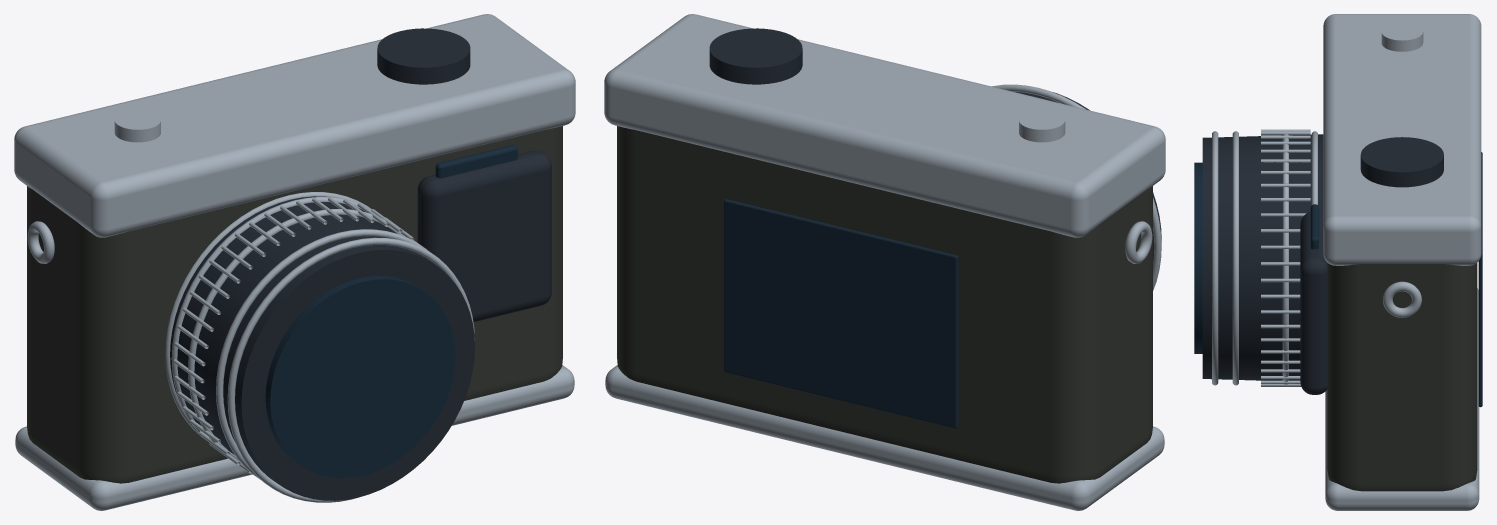
Rendered from atelier_camera.glb.
3 views of the same model, side by side, from view 1: azimuth 30°, elevation 25°; view 2: azimuth 150°, elevation 25°; view 3: azimuth 270°, elevation 25° (orthographic). The views are drawn at different scales.
Parts seen in each view (by area): view 1: camera:Atelier_BrushedSteel, camera:CameraV5_PebbleLeather, camera:Atelier_AnodizedMetal, camera:Atelier_OpticalGlass; view 2: camera:CameraV5_PebbleLeather, camera:Atelier_BrushedSteel, camera:Atelier_OpticalGlass, camera:Atelier_AnodizedMetal; view 3: camera:Atelier_BrushedSteel, camera:CameraV5_PebbleLeather, camera:Atelier_AnodizedMetal, camera:Atelier_OpticalGlass.
Boxes of the visible parts, <box> form: camera:Atelier_BrushedSteel: <box>14,14,575,510</box>; camera:CameraV5_PebbleLeather: <box>27,126,562,483</box>; camera:Atelier_AnodizedMetal: <box>170,28,551,500</box>; camera:Atelier_OpticalGlass: <box>265,145,517,478</box>; camera:CameraV5_PebbleLeather: <box>617,126,1152,483</box>; camera:Atelier_BrushedSteel: <box>604,14,1165,510</box>; camera:Atelier_OpticalGlass: <box>724,199,958,428</box>; camera:Atelier_AnodizedMetal: <box>709,28,1161,261</box>; camera:Atelier_BrushedSteel: <box>1212,14,1481,510</box>; camera:CameraV5_PebbleLeather: <box>1327,263,1477,491</box>; camera:Atelier_AnodizedMetal: <box>1202,134,1443,394</box>; camera:Atelier_OpticalGlass: <box>1194,152,1482,407</box>.
Bounding box in the file's own units: 0.1283 × 0.0825 × 0.0693.
